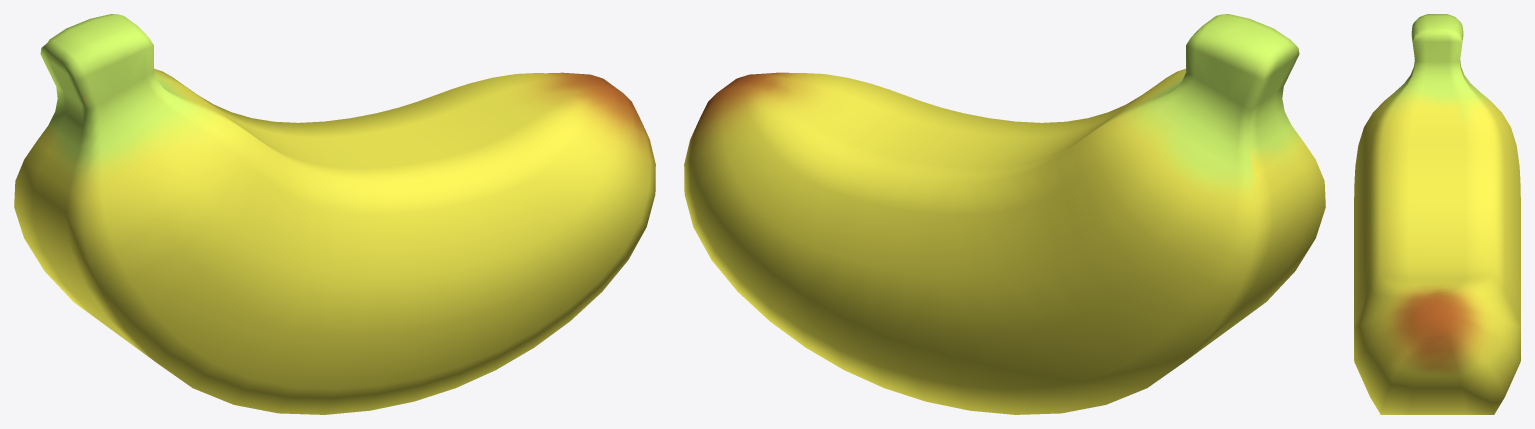
Rendered from banana.fbx.
3 renders of one model, left to right at view 1: azimuth 30°, elevation 25°; view 2: azimuth 150°, elevation 25°; view 3: azimuth 270°, elevation 25°, orthographic. The views are drawn at different scales.
Visible parts, largest first — view 1: fruit stand.002; view 2: fruit stand.002; view 3: fruit stand.002.
Boxes of the visible parts, x1,y1,x2,y2 form: fruit stand.002: [14, 14, 655, 414]; fruit stand.002: [684, 14, 1325, 414]; fruit stand.002: [1354, 14, 1520, 414].
Bounding box in the file's own units: 24.26 × 16.45 × 8.85.
